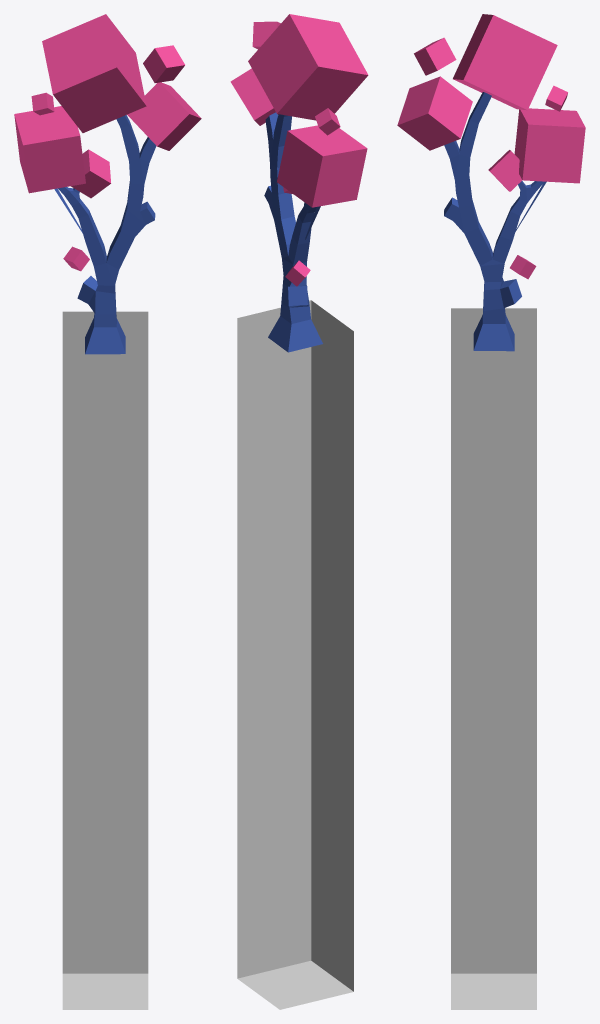
File: tree.glb
3 views of the same model, side by side, from view 1: azimuth 90°, elevation 25°; view 2: azimuth 210°, elevation 25°; view 3: azimuth 270°, elevation 25° (orthographic).
Visible parts, largest first — view 1: box, l2, tree, l4, l3, l6, l1; view 2: box, l2, tree, l4, l3, l6, l5, l7; view 3: box, tree, l2, l4, l3, l6, l1.
Boxes of the visible parts, box(x1,y1,x2,y2) form: box: box(62, 311, 148, 1009); l2: box(42, 14, 146, 132); tree: box(54, 115, 156, 354); l4: box(14, 106, 85, 193); l3: box(127, 82, 201, 150); l6: box(143, 45, 184, 82); l1: box(71, 149, 111, 198); box: box(237, 300, 353, 1009); l2: box(248, 14, 368, 120); tree: box(264, 112, 322, 352); l4: box(277, 125, 367, 207); l3: box(230, 68, 278, 125); l6: box(252, 21, 280, 49); l5: box(315, 108, 340, 135); l7: box(285, 260, 310, 286); box: box(451, 308, 536, 1009); tree: box(444, 92, 546, 351); l2: box(453, 14, 557, 110); l4: box(514, 108, 585, 183); l3: box(397, 76, 472, 150); l6: box(414, 37, 456, 75); l1: box(488, 150, 522, 191).
Bounding box in the file's own units: 5.29 × 56.63 × 9.87.
